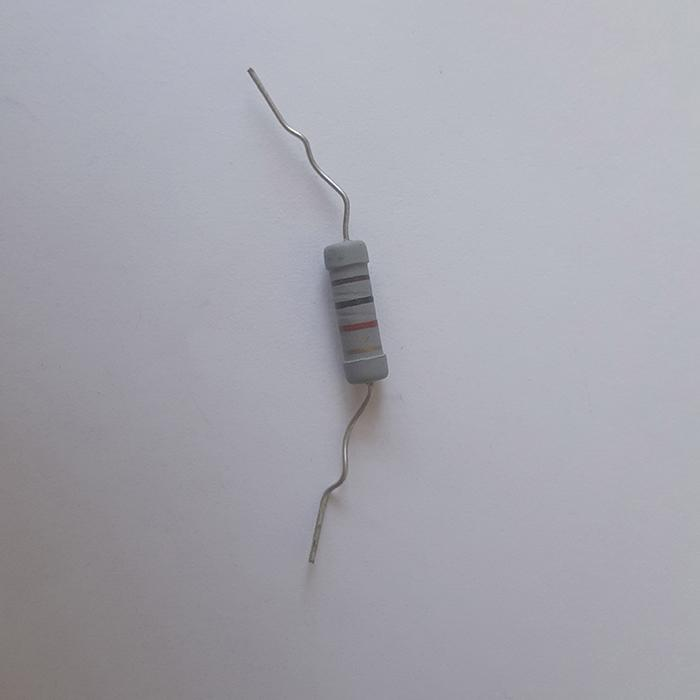resistor: (322, 236, 390, 384)
